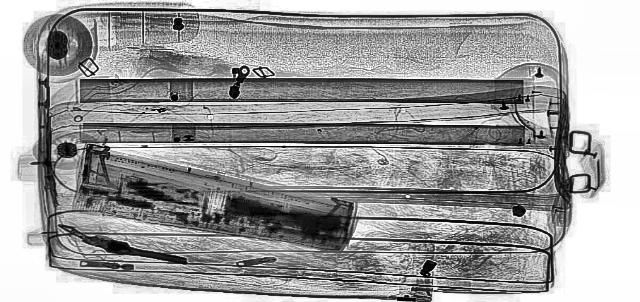Gun: (46, 220, 196, 273)
